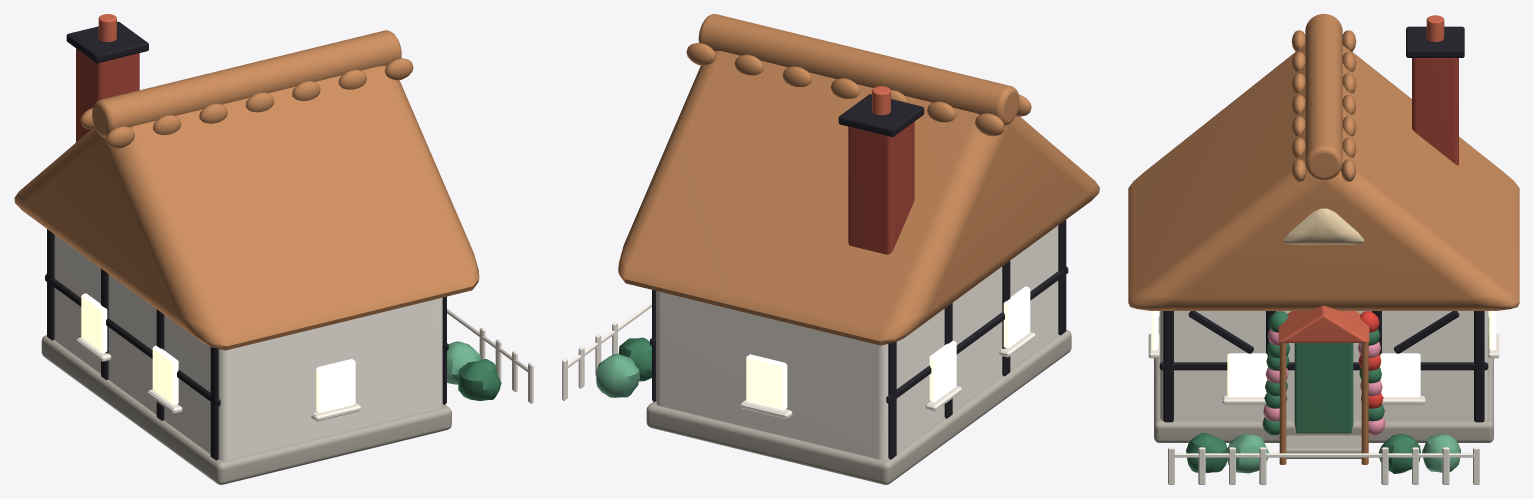
The model's file is cottage.glb.
3 renders of one model, left to right at view 1: azimuth 30°, elevation 25°; view 2: azimuth 150°, elevation 25°; view 3: azimuth 270°, elevation 25°, orthographic. The views are drawn at different scales.
Visible parts, largest first — view 1: cottage; view 2: cottage; view 3: cottage.
Boxes of the visible parts, box(x1,y1,x2,y2) form: cottage: box(14, 14, 533, 484); cottage: box(562, 14, 1099, 484); cottage: box(1128, 14, 1519, 484).
Size of the model in its own units: 6.69 by 6.3 by 6.68.
1 material, 1 textured.
